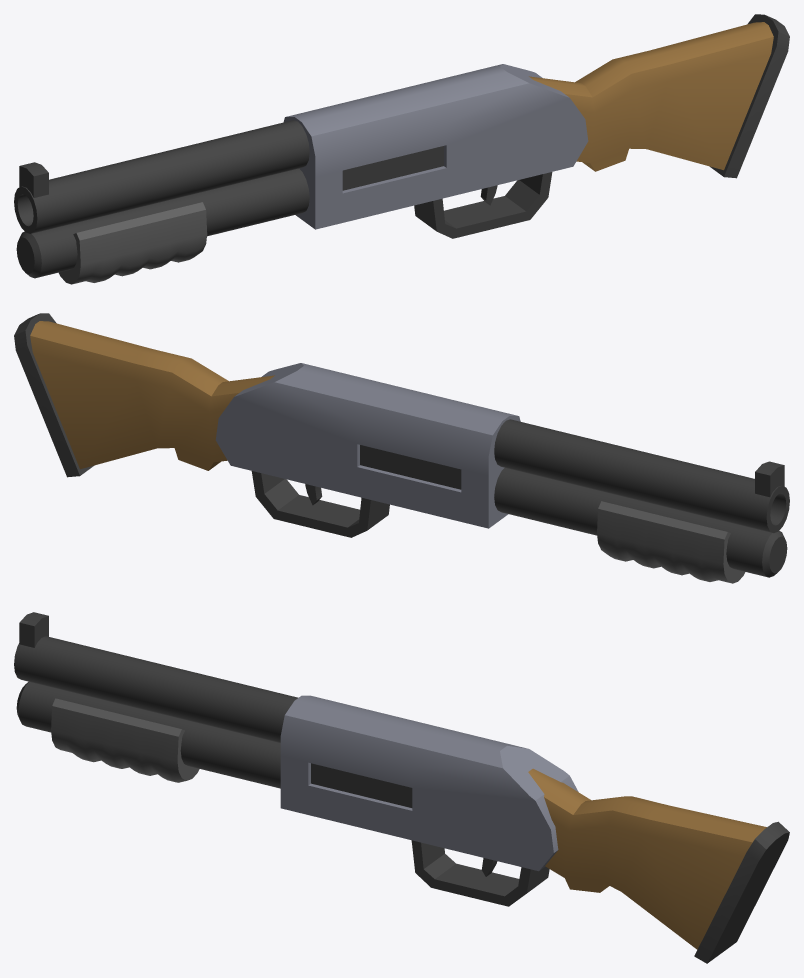
Rendered from shotgun.glb.
3 renders of one model, top to bottom at view 1: azimuth 30°, elevation 25°; view 2: azimuth 150°, elevation 25°; view 3: azimuth 330°, elevation 25°, orthographic.
Parts seen in each view (by area): view 1: Shotgun; view 2: Shotgun; view 3: Shotgun.
Part boxes in pixels (x1=…): Shotgun: x1=14, y1=14, x2=789, y2=284; Shotgun: x1=14, y1=313, x2=789, y2=583; Shotgun: x1=14, y1=612, x2=789, y2=963.
Size of the model in its own units: 1.55 by 0.3308 by 0.1224.
